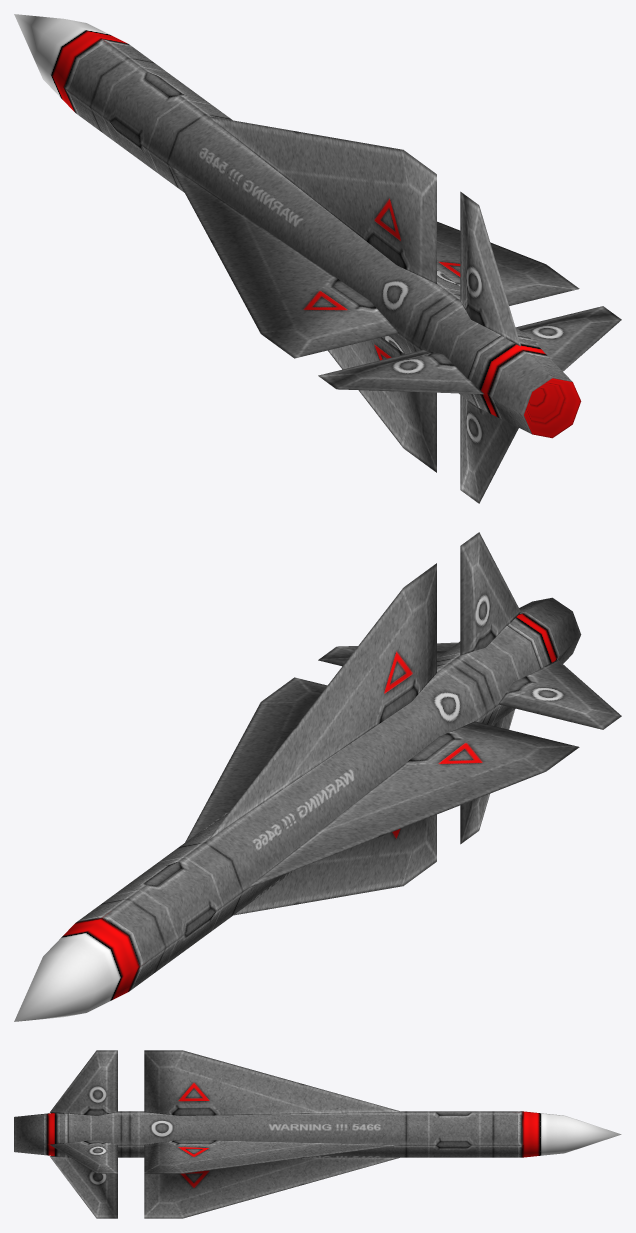
File: missile.fbx
3 views of the same model, one above another, from view 1: azimuth 30°, elevation 25°; view 2: azimuth 150°, elevation 25°; view 3: azimuth 270°, elevation 25° (orthographic). The views are drawn at different scales.
Visible parts, largest first — view 1: missile; view 2: missile; view 3: missile.
Boxes of the visible parts, x1,y1,x2,y2 form: missile: (14, 14, 621, 503); missile: (14, 532, 621, 1021); missile: (14, 1050, 621, 1218).
Size of the model in its own units: 152 by 152 by 497.
